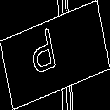P_S: (38, 26, 72, 84)
